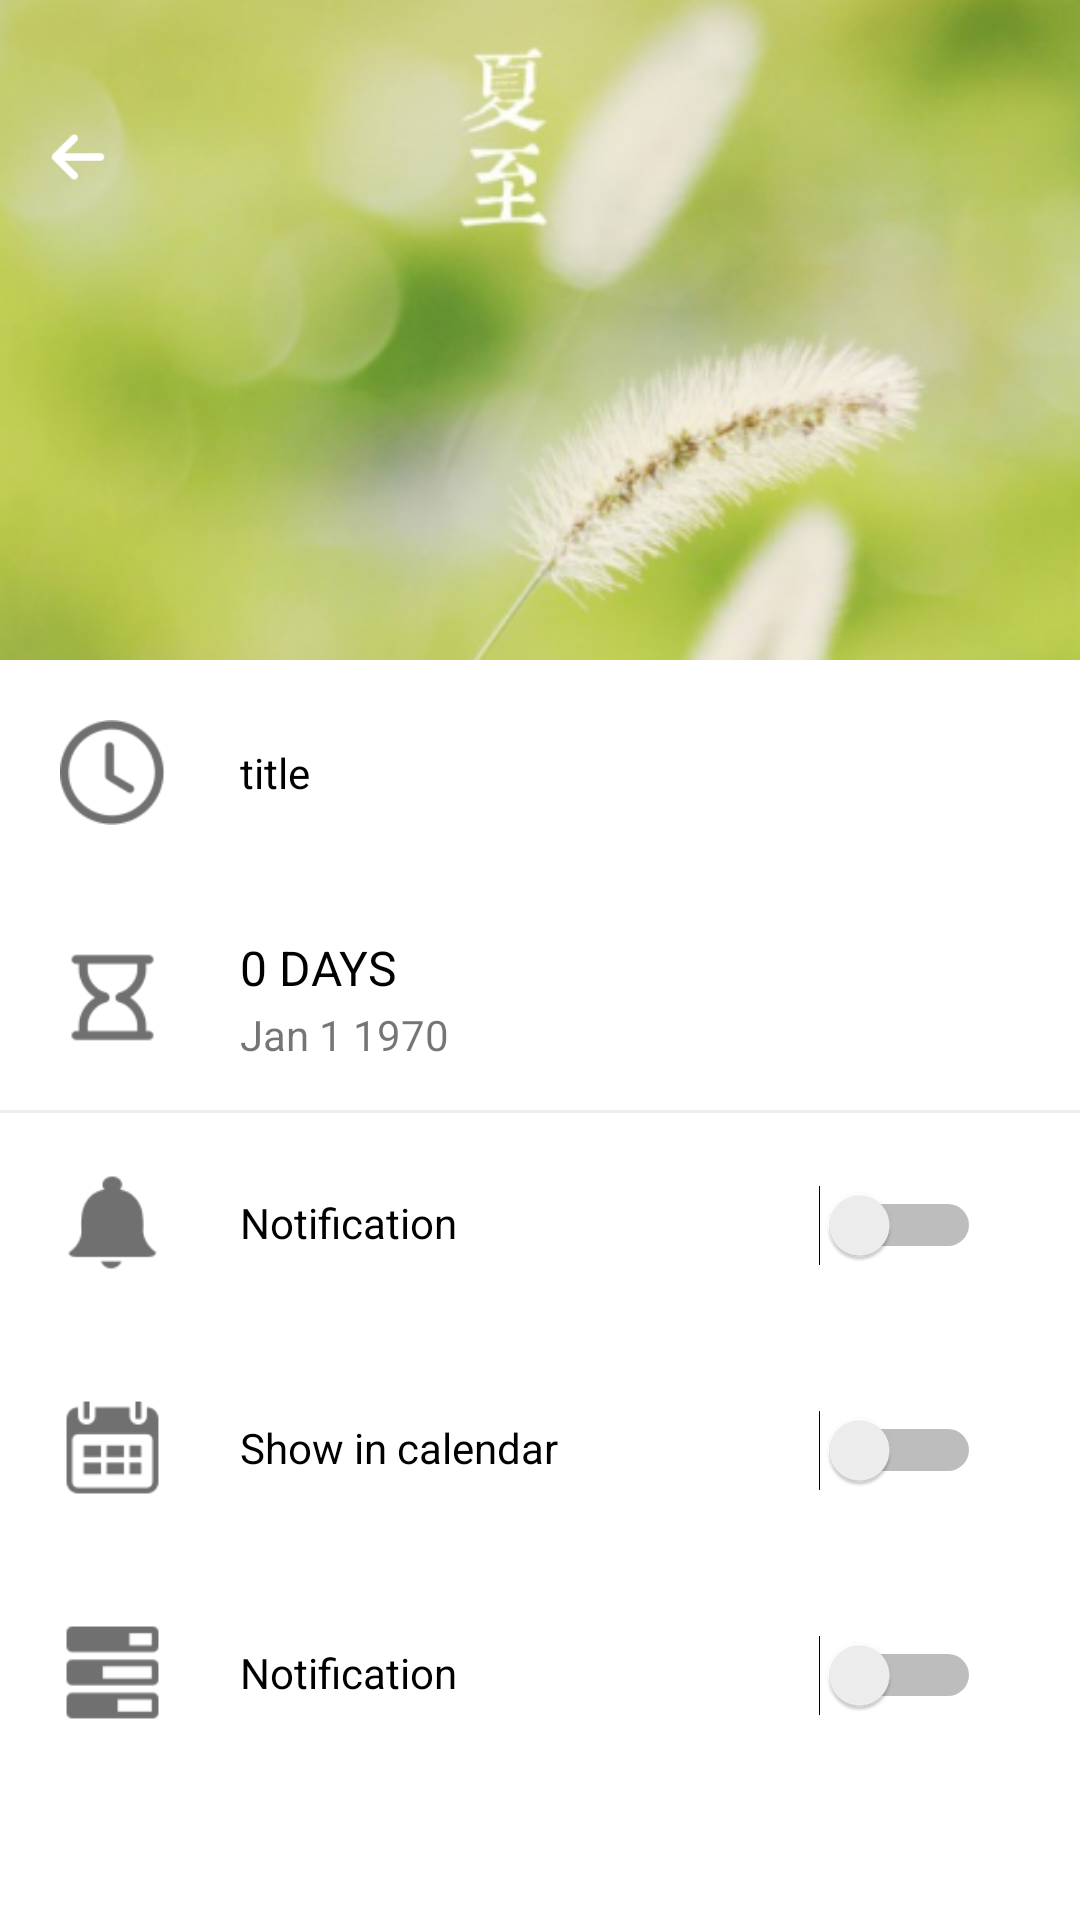

Where icons sit on this 1080×1920 app screen, as (x1, y1, x2, y2):
back: (48, 127, 108, 187)
